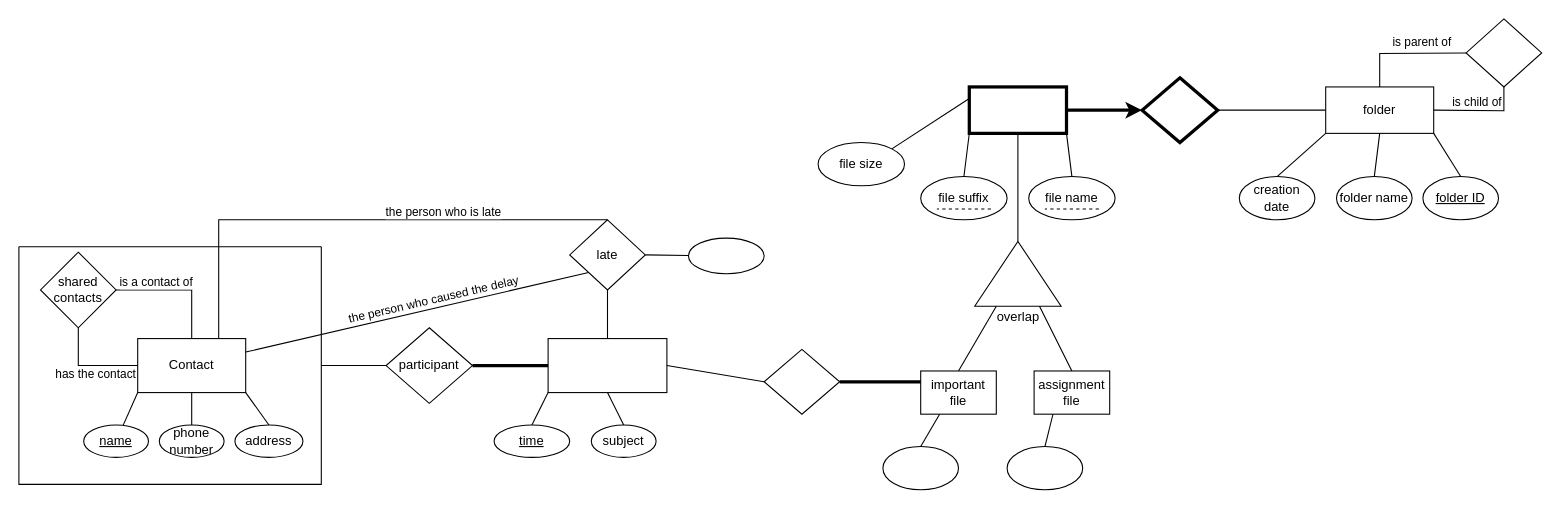
This 1561x509 diagram has some shape labels left out. The centre of each missing label's shape, as x and y in pixels:
"delay time" belongs at (x=725, y=255).
"file" belongs at (x=1017, y=109).
"IS A" belongs at (x=1017, y=273).
"is name in format" belongs at (x=1044, y=468).
"location" belongs at (x=1179, y=110).
"modified" belongs at (x=801, y=381).
"sub-folder" belongs at (x=1503, y=52).
"total time" belongs at (x=920, y=468).
"zoom meeting" belongs at (x=607, y=365).
